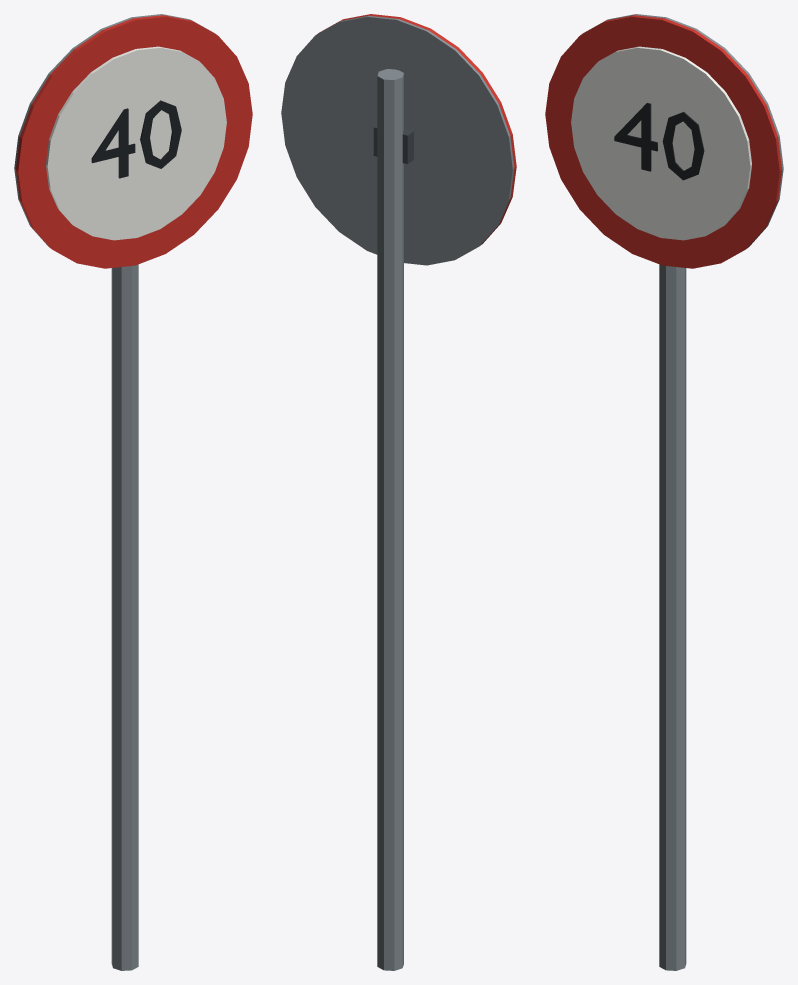
Rendered from SpeedSign_40.fbx.
3 views of the same model, side by side, from view 1: azimuth 30°, elevation 25°; view 2: azimuth 150°, elevation 25°; view 3: azimuth 330°, elevation 25° (orthographic).
Visible parts, largest first — view 1: SpeedSign_40; view 2: SpeedSign_40; view 3: SpeedSign_40.
Part boxes in pixels (x1,y1,x2,y2): SpeedSign_40: (14, 14, 252, 970); SpeedSign_40: (281, 14, 516, 970); SpeedSign_40: (545, 14, 783, 970).
Size of the model in its own units: 0.68 by 2.64 by 0.1.
